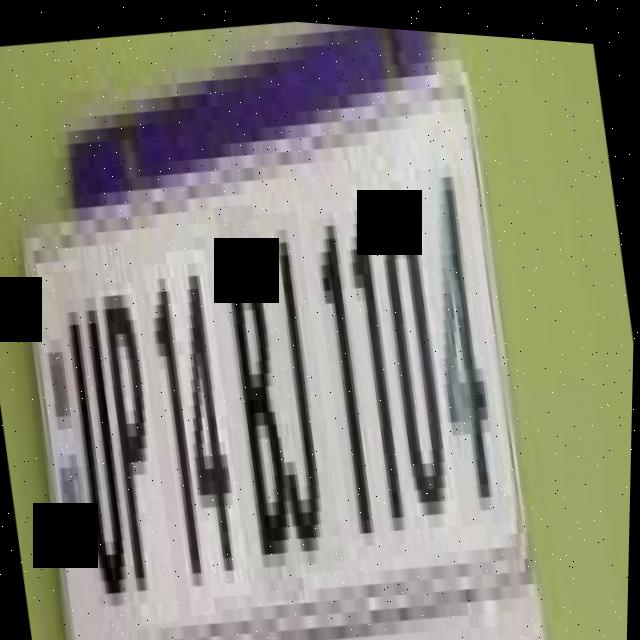0: (366, 162, 469, 530)
1: (335, 206, 428, 550), (140, 259, 225, 613), (305, 210, 390, 535)
4: (408, 156, 520, 521), (161, 243, 261, 596)
B: (208, 198, 315, 600)
J: (248, 204, 354, 571)
P: (93, 284, 189, 625)
U: (49, 265, 144, 606)
